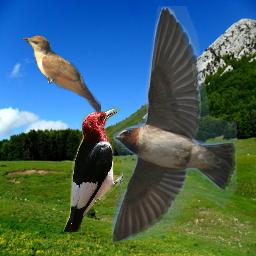Cuckoo: (22, 35, 101, 113)
Swallow: (111, 6, 237, 244)
Woodpecker: (61, 106, 123, 232)
